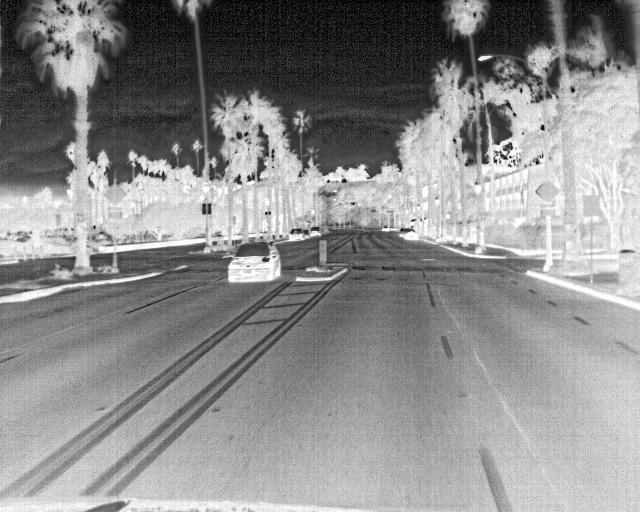car: (227, 242, 282, 282), (403, 226, 423, 240), (288, 226, 306, 241), (307, 224, 321, 238), (398, 227, 412, 239)
